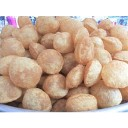poori: (10, 57, 41, 90), (102, 60, 128, 89), (22, 85, 52, 110), (42, 71, 69, 97), (92, 83, 122, 106), (37, 49, 64, 74), (65, 94, 98, 112), (53, 30, 75, 54), (16, 26, 38, 49), (110, 23, 128, 50), (2, 36, 24, 58), (84, 61, 102, 87), (76, 37, 94, 61), (35, 15, 59, 33), (103, 33, 123, 53), (62, 18, 85, 32)
